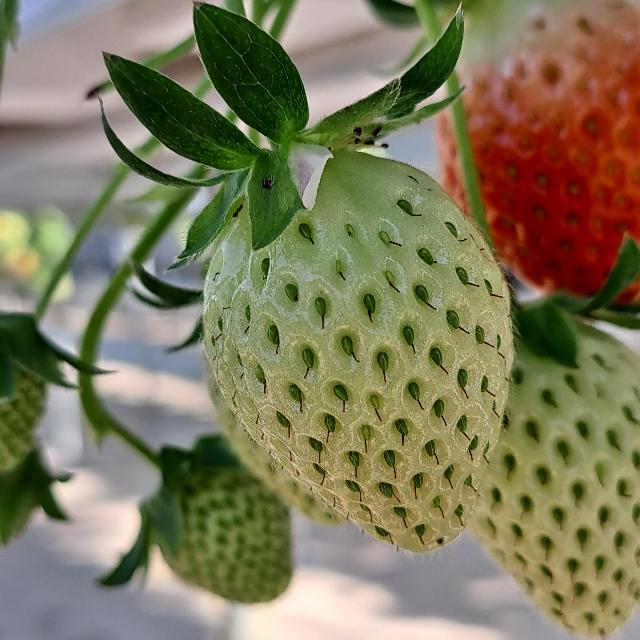Health_100: (438, 0, 640, 304)
Health_25: (202, 151, 514, 553), (474, 320, 638, 640), (144, 444, 298, 600)
